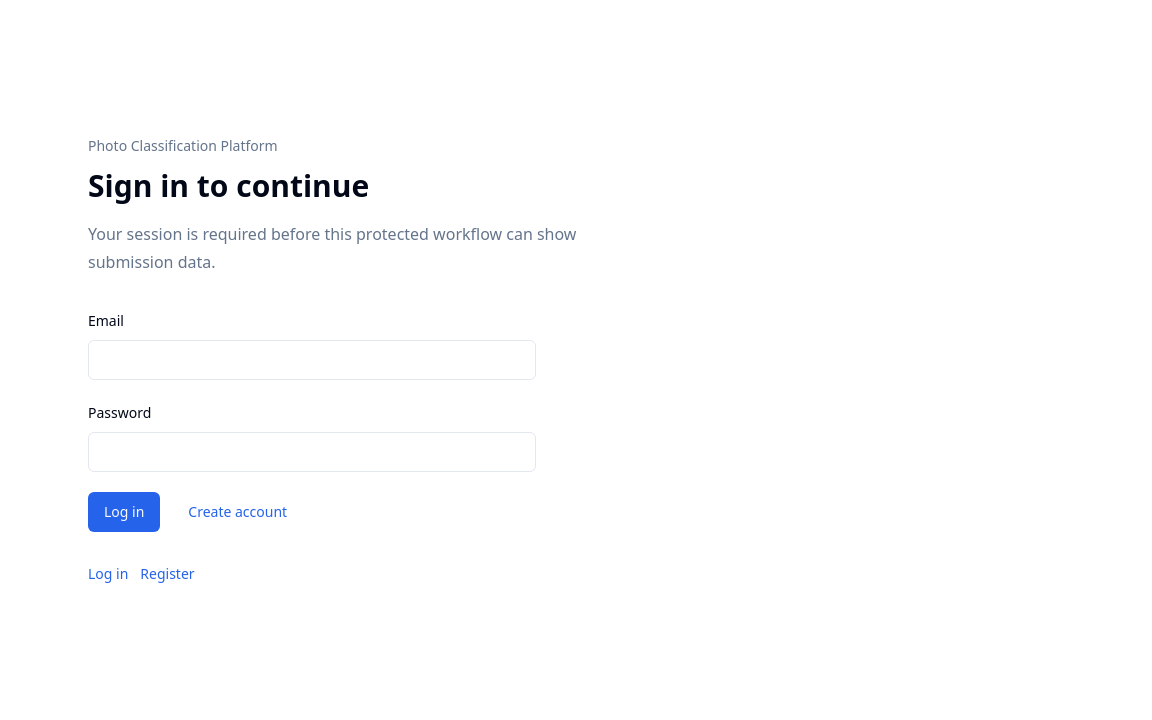
Test: auth route flow › returns a visitor to an allowed protected deep link after login
The image size is (1152, 720).
expect the heading "Sign in to continue" is shown: met, box left=88, top=165, right=369, bottom=206
Type "user@example.com" into the field labelled "Email".
click(312, 360); type("user@example.com")  # box left=88, top=340, right=536, bottom=380
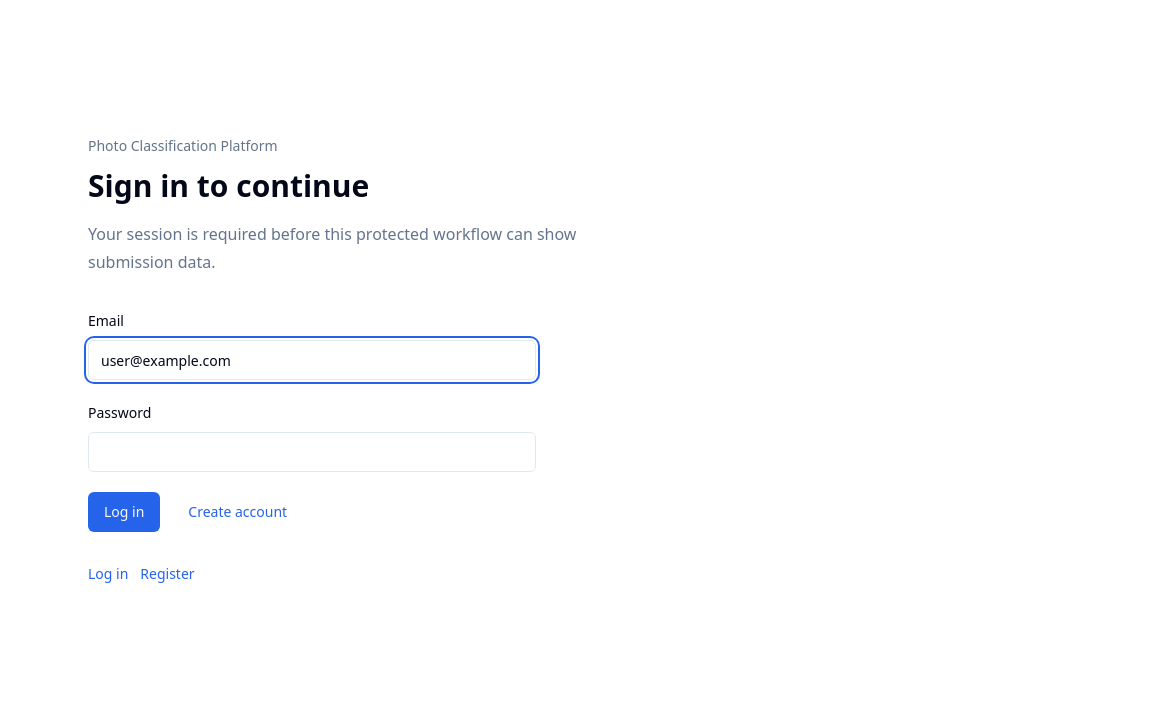
Type "StrongPassword123!" into the password field labelled "Password".
click(312, 452); type("StrongPassword123!")  # box left=88, top=432, right=536, bottom=472
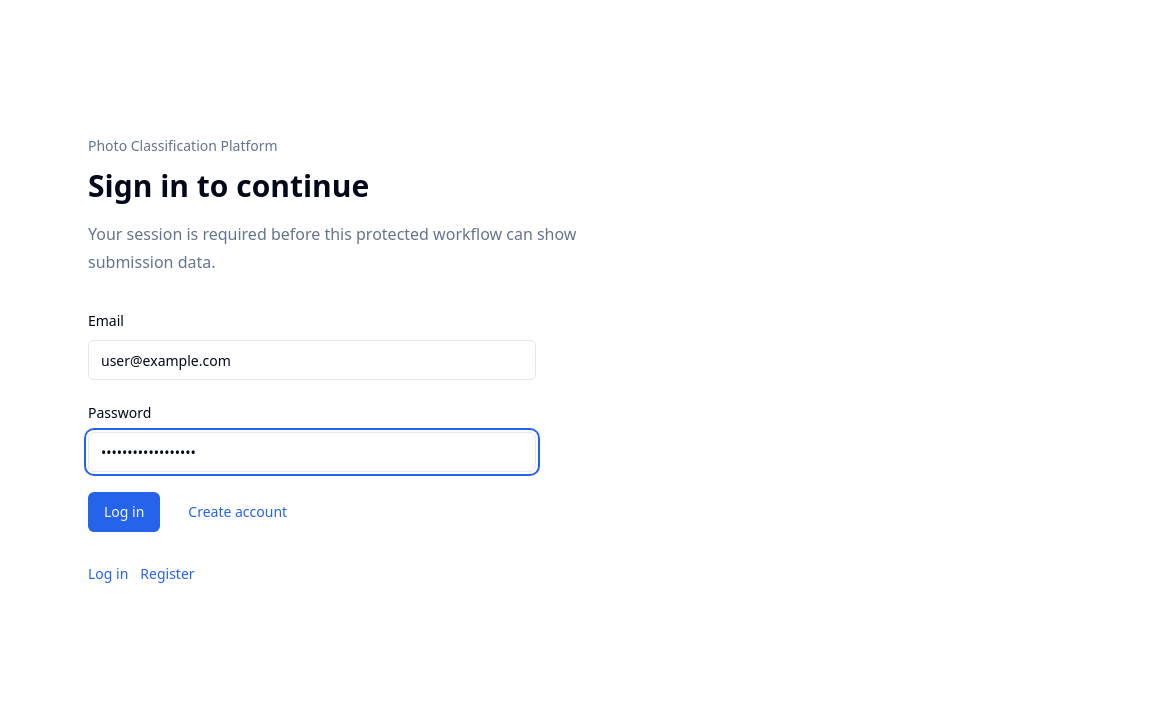
Click the button "Log in".
click(124, 512)  # box left=88, top=492, right=160, bottom=532
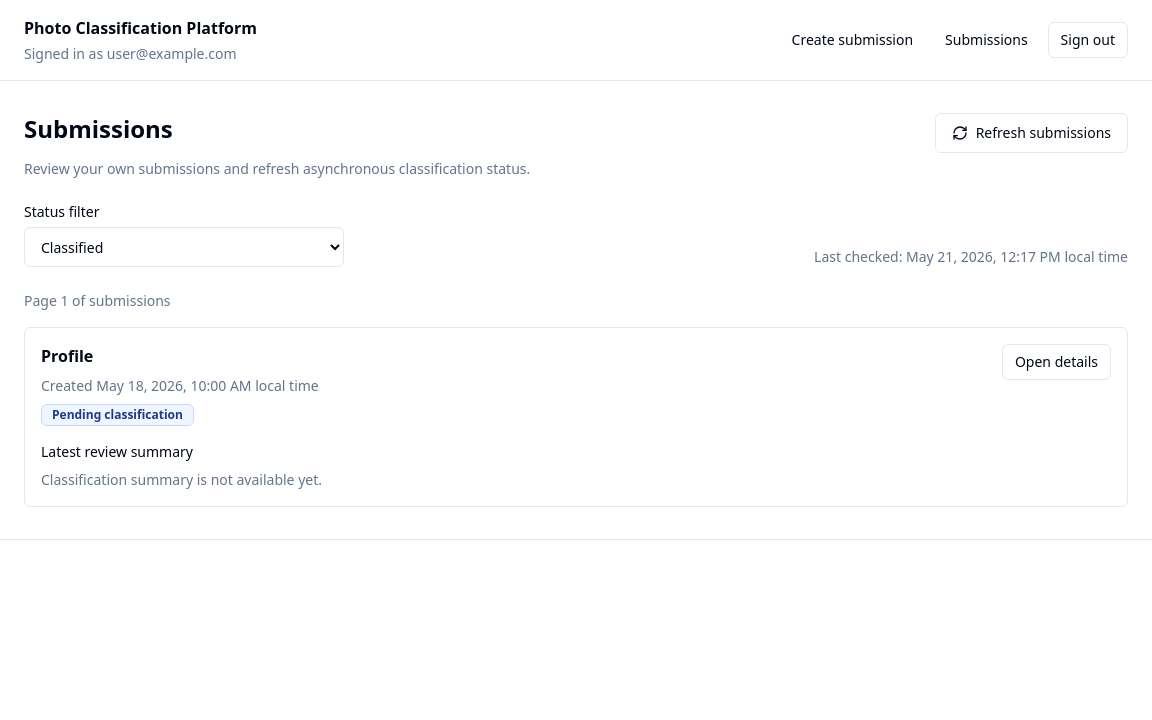
expect the text "access-token" is not shown: met
expect the heading "Submissions" is shown: met, box left=24, top=112, right=173, bottom=145
